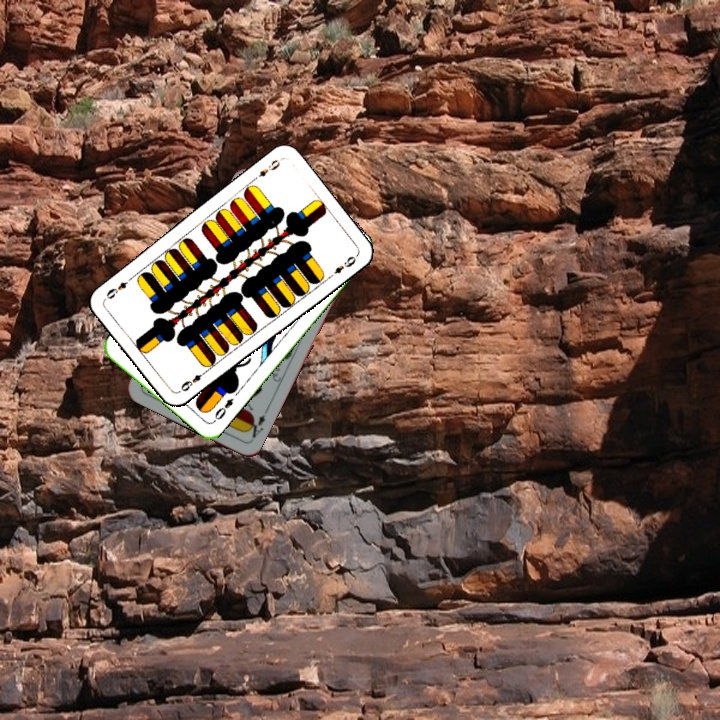E9: (175, 366, 210, 395), (249, 155, 284, 184)
EA: (243, 410, 268, 440)
EO: (209, 394, 236, 425)
